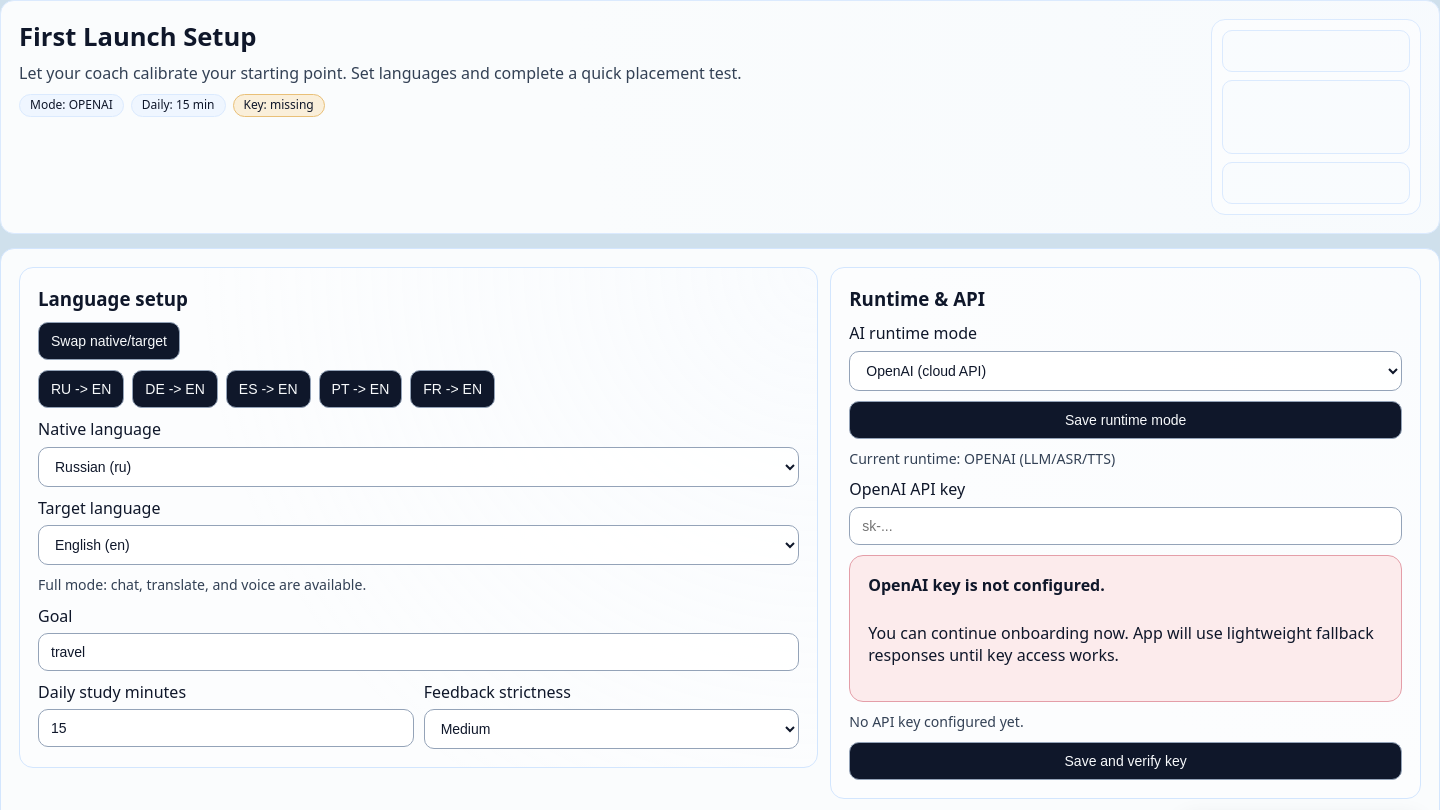
Test: OnboardingPage › supports preset and swap for onboarding language pair
Click the button with aria-label "Onboarding preset DE -> EN" at (175, 389), box x1=132 y1=370 x2=218 y2=408
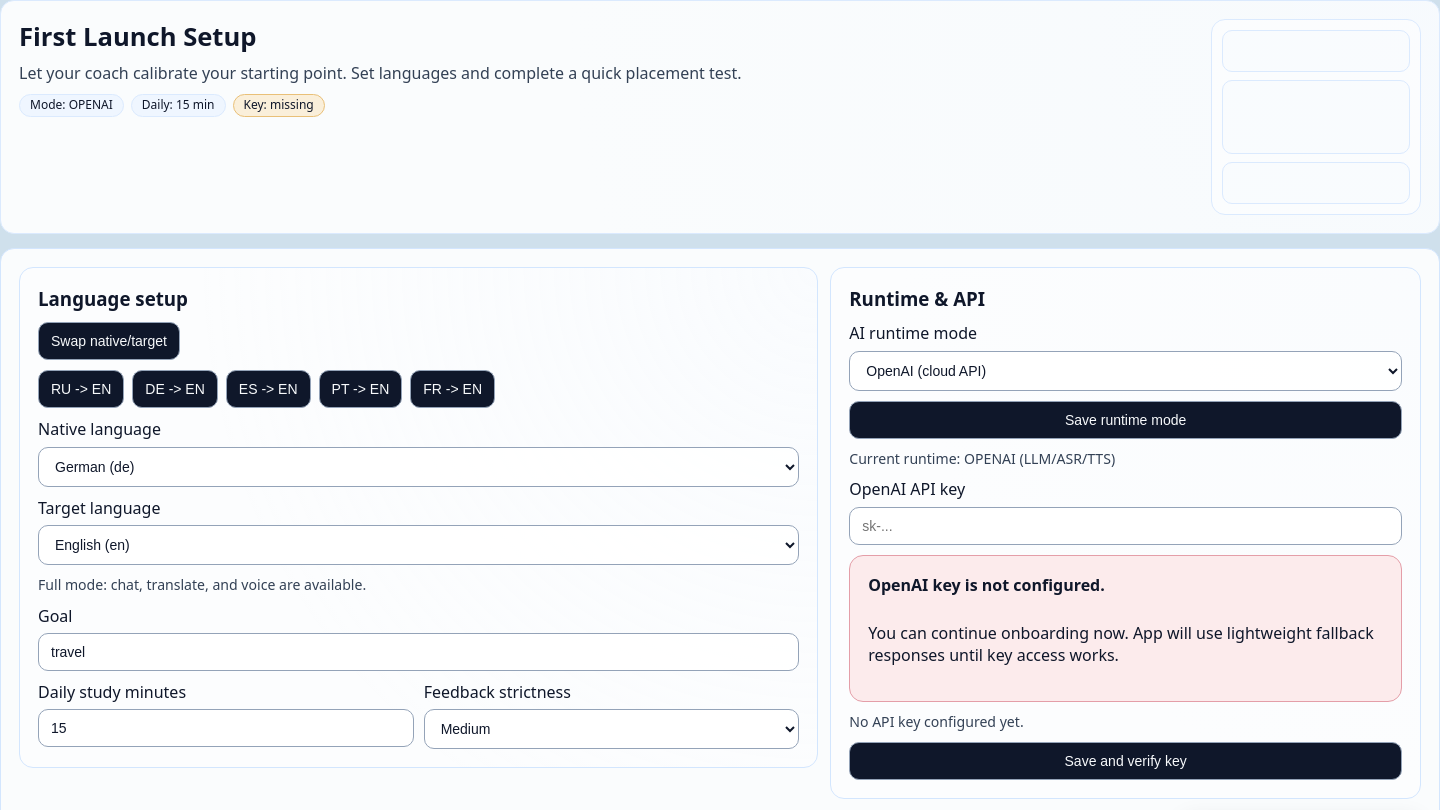
Expected: the dropdown named "Onboarding target language" shows "English (en)", x1=38 y1=525 x2=799 y2=565
Expected: the dropdown named "Onboarding native language" shows "German (de)", x1=38 y1=447 x2=799 y2=487
Click the button with aria-label "Onboarding swap languages" at (109, 341), box x1=38 y1=322 x2=180 y2=360
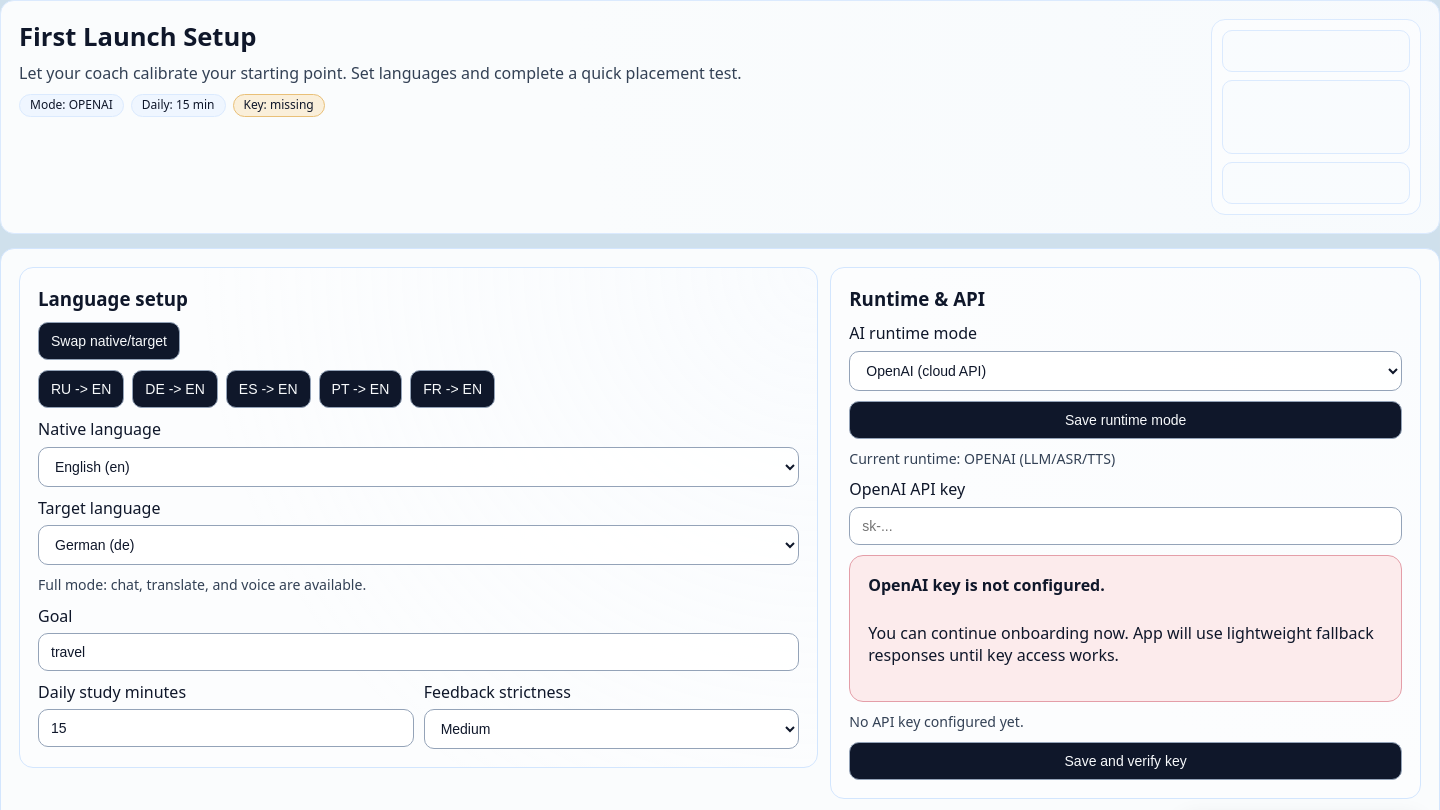
Expected: the dropdown named "Onboarding native language" shows "English (en)", x1=38 y1=447 x2=799 y2=487
Expected: the dropdown named "Onboarding target language" shows "German (de)", x1=38 y1=525 x2=799 y2=565
